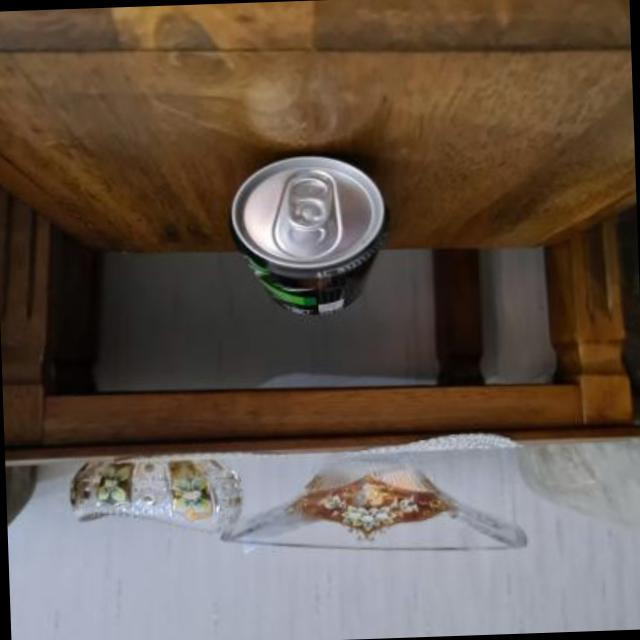metal: (234, 158, 388, 319)
